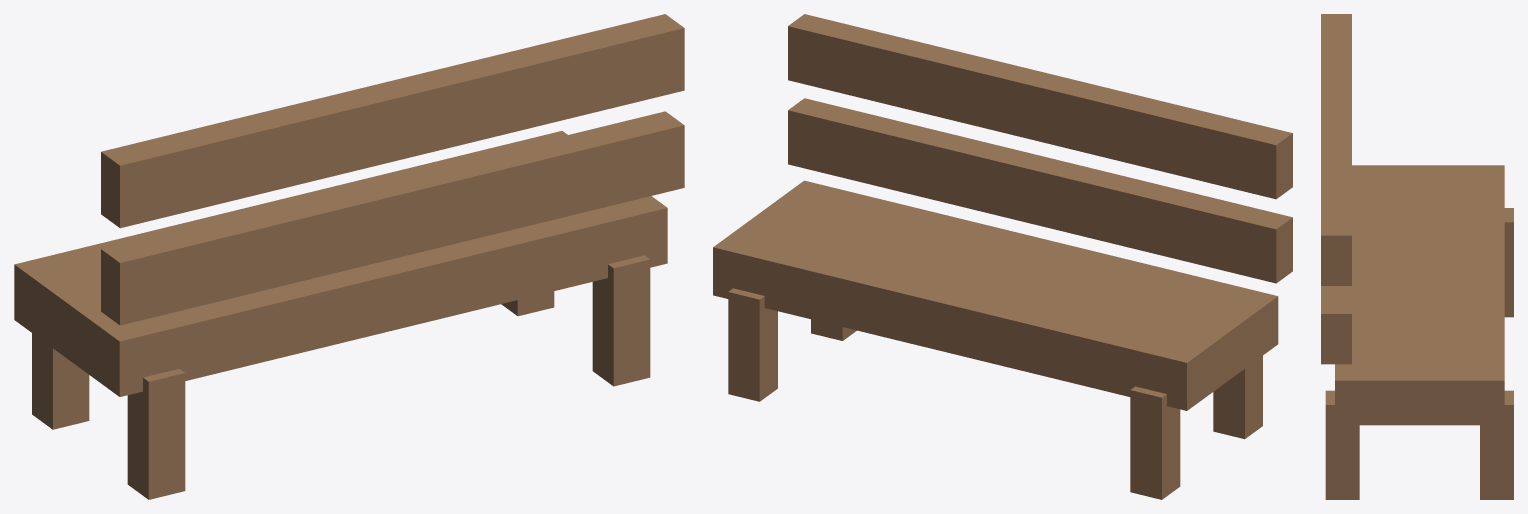
The model's file is bench_weathered.glb.
The picture shows the model from 3 angles, left to right: view 1: azimuth 30°, elevation 25°; view 2: azimuth 150°, elevation 25°; view 3: azimuth 270°, elevation 25°; orthographic projection. The views are drawn at different scales.
Parts seen in each view (by area): view 1: bench_weathered; view 2: bench_weathered; view 3: bench_weathered.
Part boxes in pixels (<box>): bench_weathered: <box>14,14,684,499</box>; bench_weathered: <box>713,14,1292,499</box>; bench_weathered: <box>1321,14,1513,499</box>.
Size of the model in its own units: 1.7 by 0.99 by 0.625.
